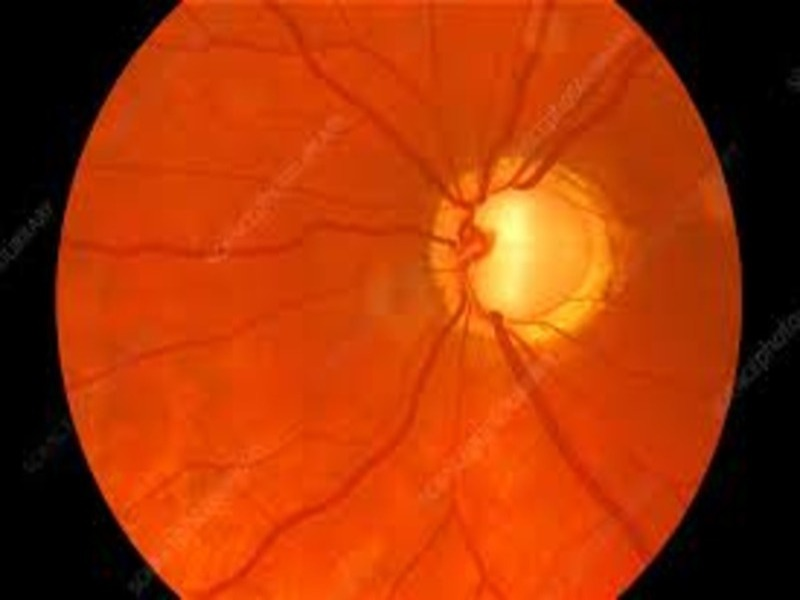Optic Cup: (481, 197, 532, 308)
Optic Disc: (427, 154, 624, 331)
